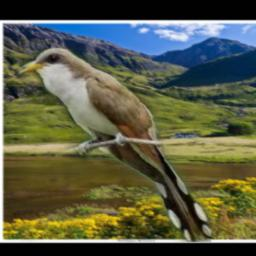Cuckoo: (21, 49, 212, 243)
